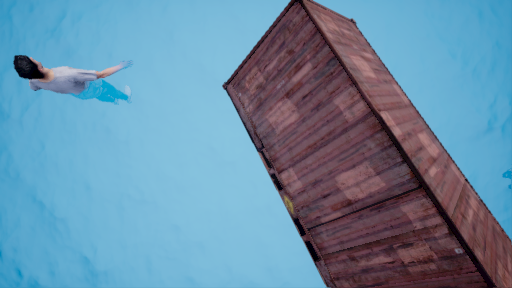person: (10, 47, 140, 116)
